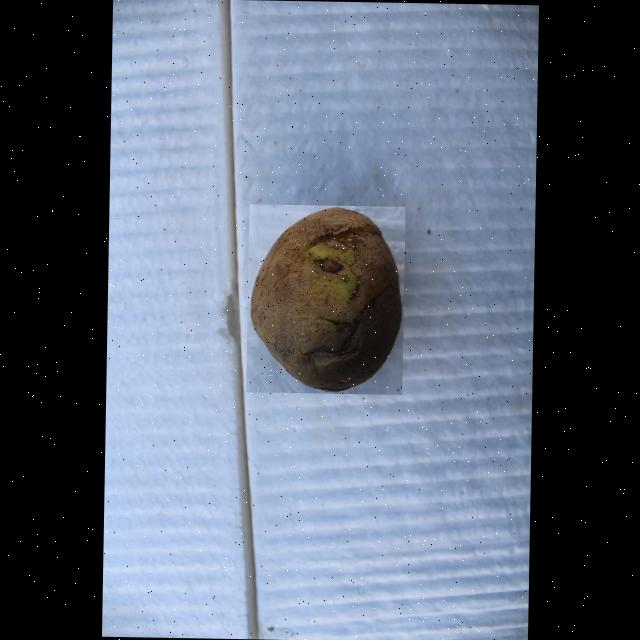Diseased-fungal potato: (246, 202, 405, 394)
